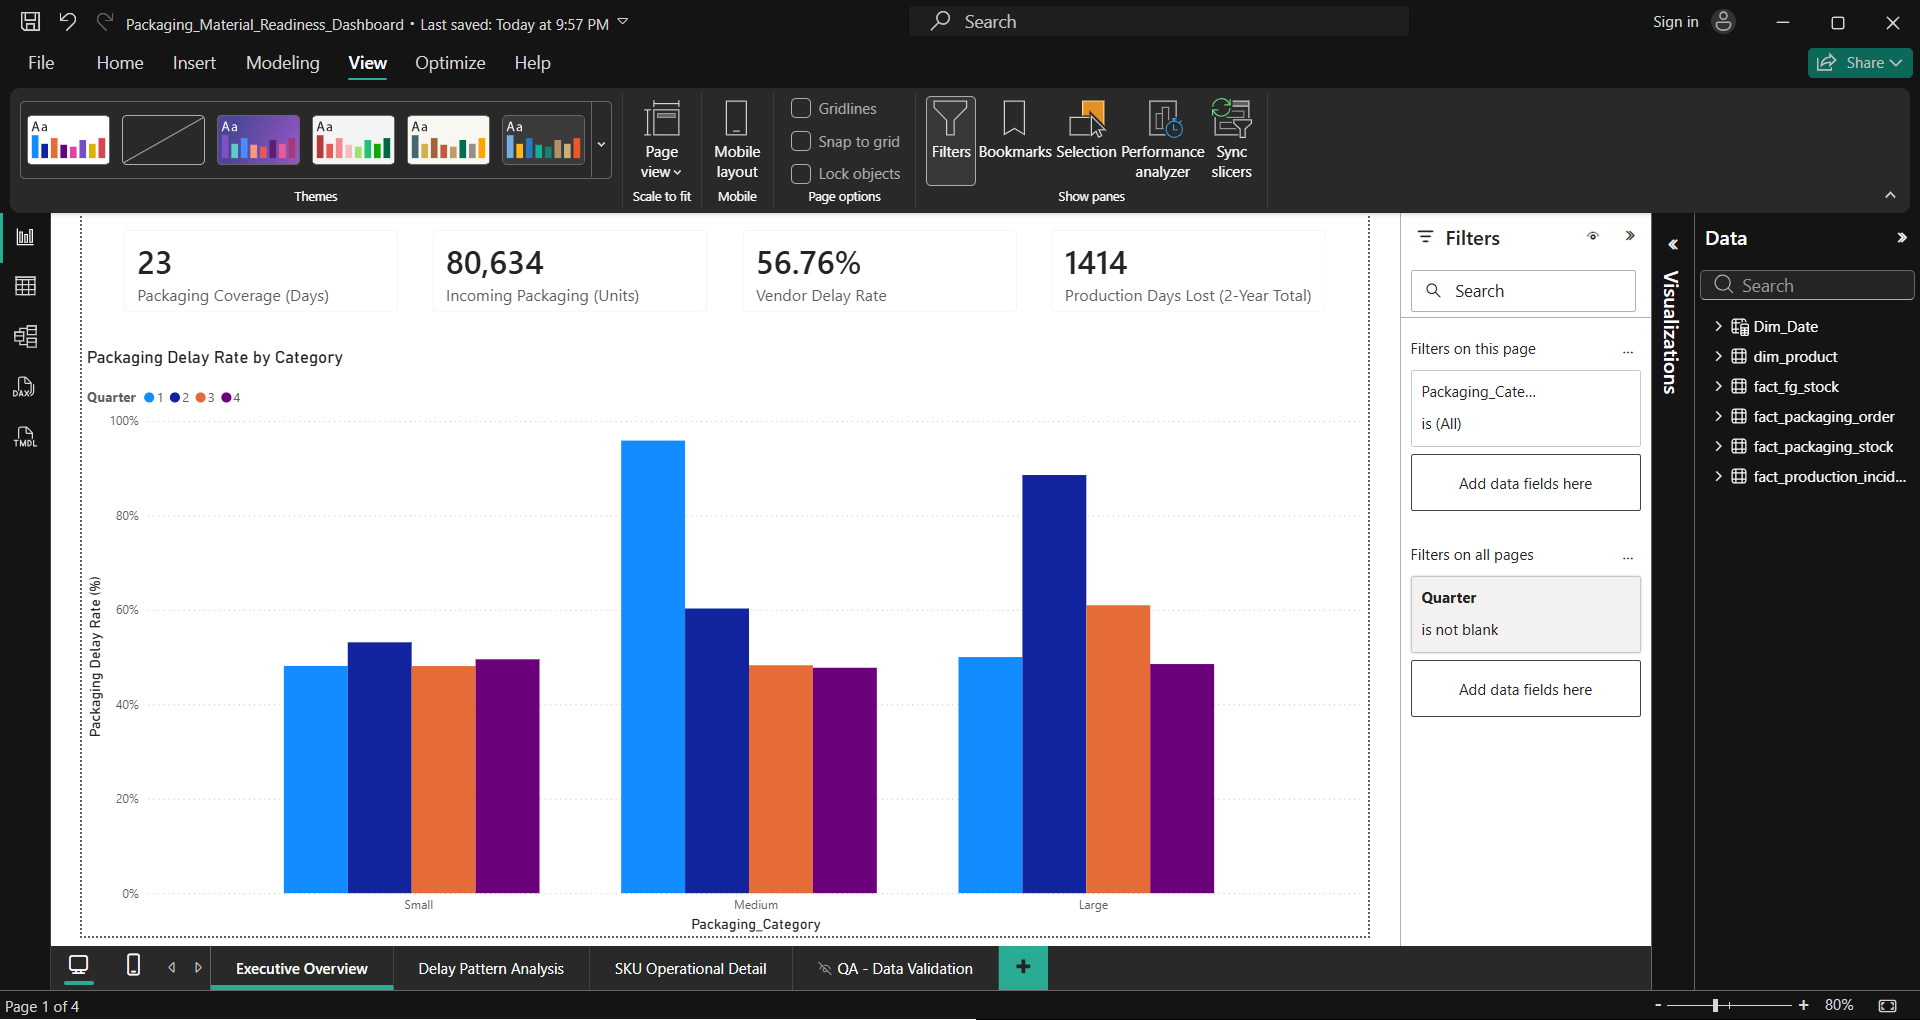

Layout of this report page (visuals, bound fields, positions):
{"tool":"powerbi","page":{"name":"Executive Overview","canvas":[1280,720],"ordinal":0},"visuals":[{"type":"cardVisual","fields":{"Data":["fact_packaging_stock.Days of Packaging Coverage"]},"box":[24.7,0,307.4,116.6],"z":0},{"type":"cardVisual","fields":{"Data":["fact_packaging_order.Packaging Delay Rate (%)"]},"box":[640.8,0,307.4,116.6],"z":1000},{"type":"cardVisual","fields":{"Data":["fact_production_incident.Production Days Lost"]},"box":[948.2,0,307.4,116.6],"z":2000},{"type":"cardVisual","fields":{"Data":["fact_packaging_order.Incoming Packaging Quantity (On Order)"]},"box":[332.1,0,307.4,116.6],"z":3000},{"type":"clusteredColumnChart","title":"Packaging Delay Rate by Category","fields":{"Category":["dim_product.Packaging_Category"],"Y":["fact_packaging_order.Packaging Delay Rate (%)"],"Series":["Dim_Date.Quarter"]},"box":[0,133.1,1280.3,587.3],"z":4000}]}

Visuals, with their boxes on the page's 1280x720 design canvas (x1, y1, x2, y2). These are canvas units, not pixel positions in the 1920x1020 screenshot, which may show the page scaled, cropped or inside an application window:
cardVisual - fact_packaging_stock.Days of Packaging Coverage: <box>25,0,332,117</box>
cardVisual - fact_packaging_order.Packaging Delay Rate (%): <box>641,0,948,117</box>
cardVisual - fact_production_incident.Production Days Lost: <box>948,0,1256,117</box>
cardVisual - fact_packaging_order.Incoming Packaging Quantity (On Order): <box>332,0,640,117</box>
"Packaging Delay Rate by Category" clusteredColumnChart: <box>0,133,1280,720</box>
